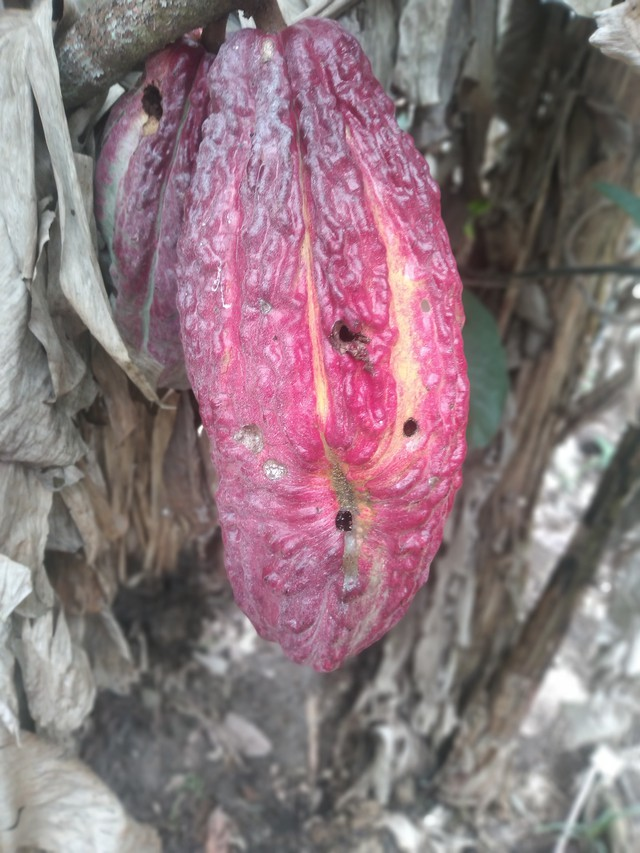carmenta foraseminis: (172, 16, 472, 678), (101, 49, 204, 380)
